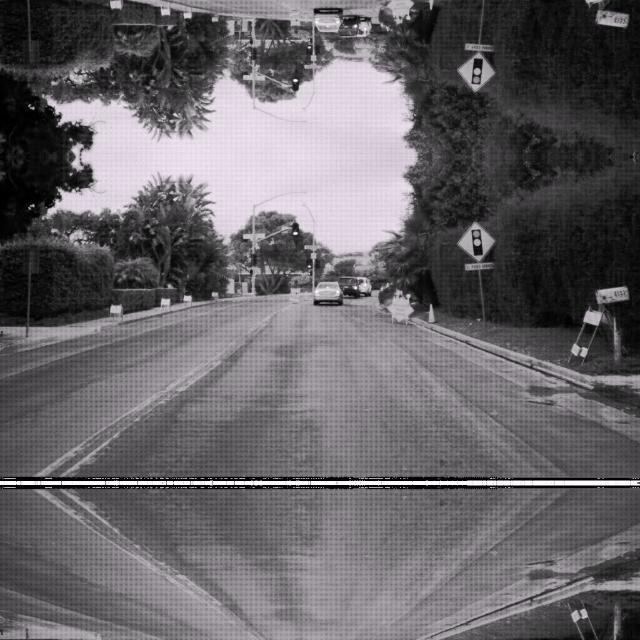signalAhead: (456, 220, 496, 262), (456, 50, 496, 92)
